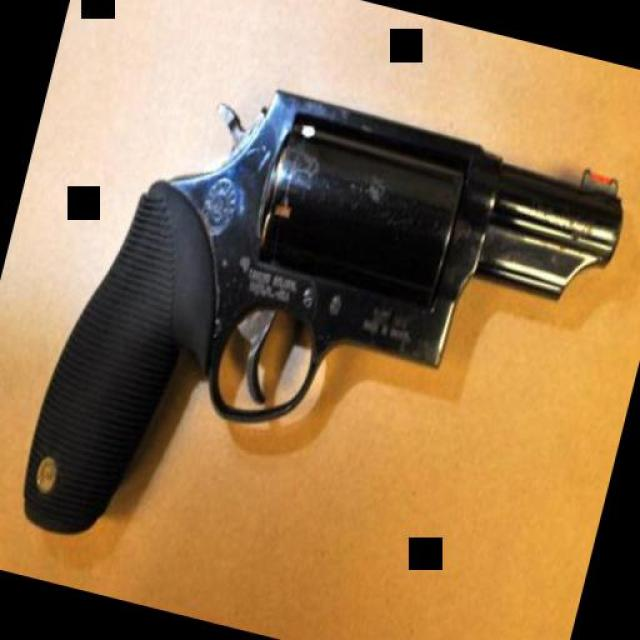gun: (16, 32, 639, 640)
